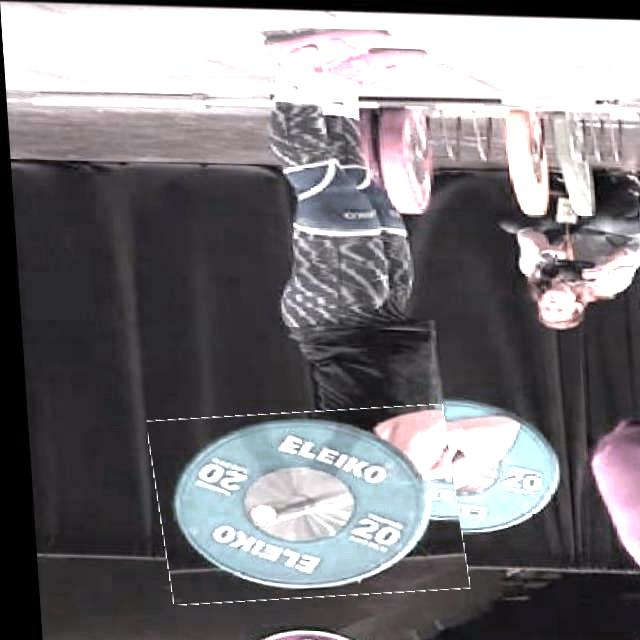barbell: (143, 402, 460, 605)
